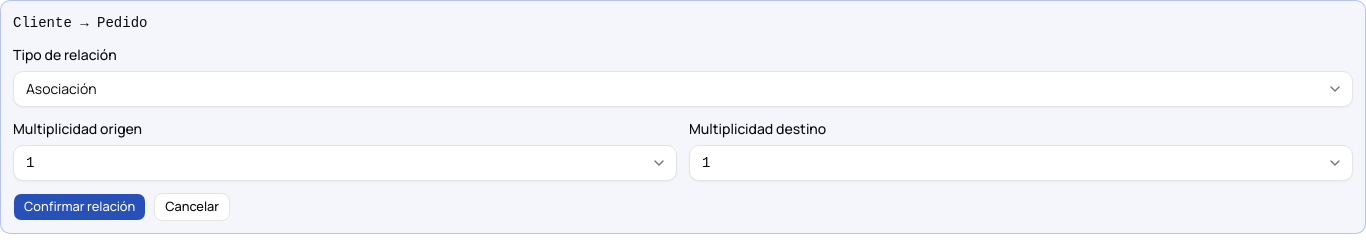
Scenario: AddRelationshipControl › hides both multiplicity selects when kind is generalization
Select "Generalización" in the dropdown labelled "Tipo de relación" at coordinates (683, 89), box [13,71,1353,107]
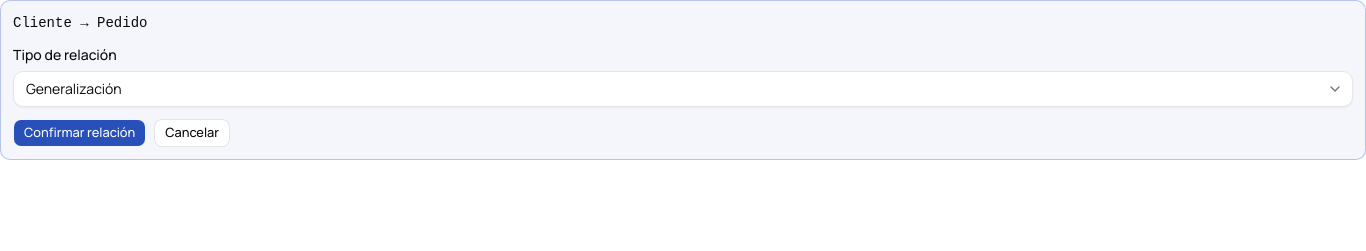
Now the label labelled "Multiplicidad origen" is gone
Now the label labelled "Multiplicidad destino" is gone
